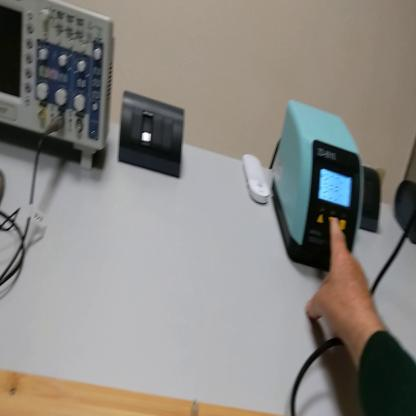hand: (305, 217, 376, 346)
oscilloscope: (2, 1, 118, 173)
socket: (359, 164, 383, 233), (394, 179, 416, 243)
welder station: (268, 103, 366, 274)
working area: (2, 367, 279, 413)
